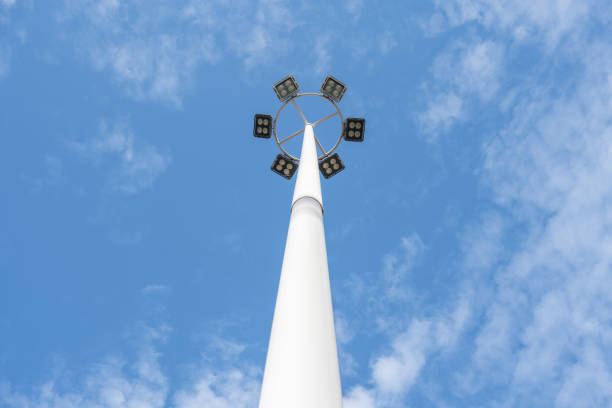light_pole: (260, 120, 344, 408)
